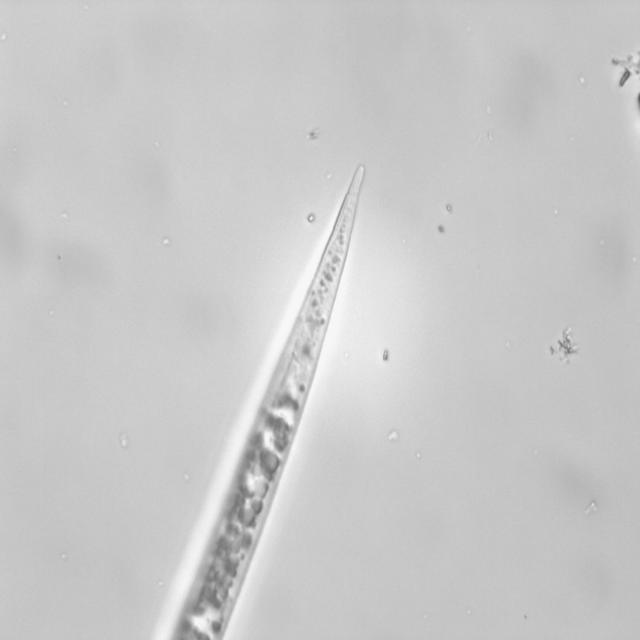Meloidogyne: (196, 160, 377, 556)
